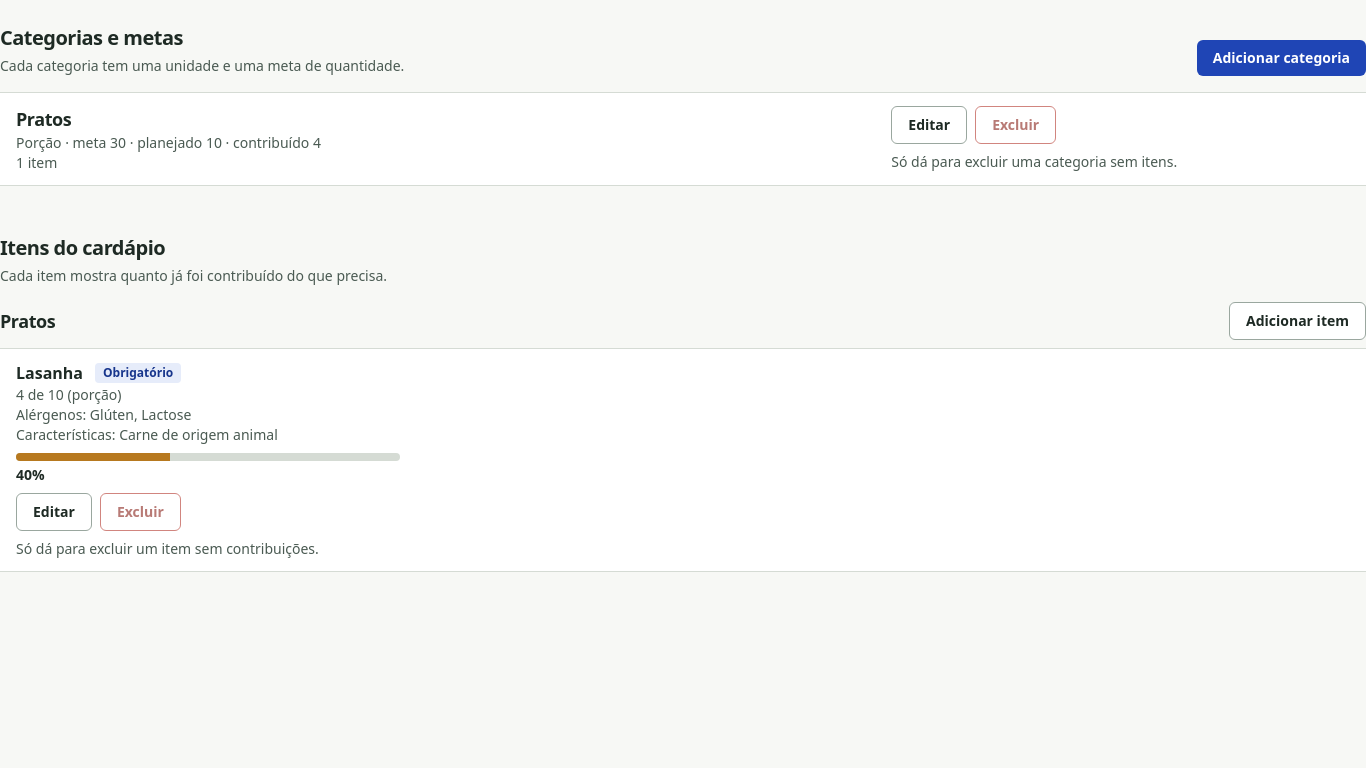
Test: MenuTab: categories › locks the unit of a category that has items, and says why
This screenshot has width=1366, height=768.
Click the button with aria-label "Editar Pratos".
click(929, 125)  # box [891, 106, 967, 144]
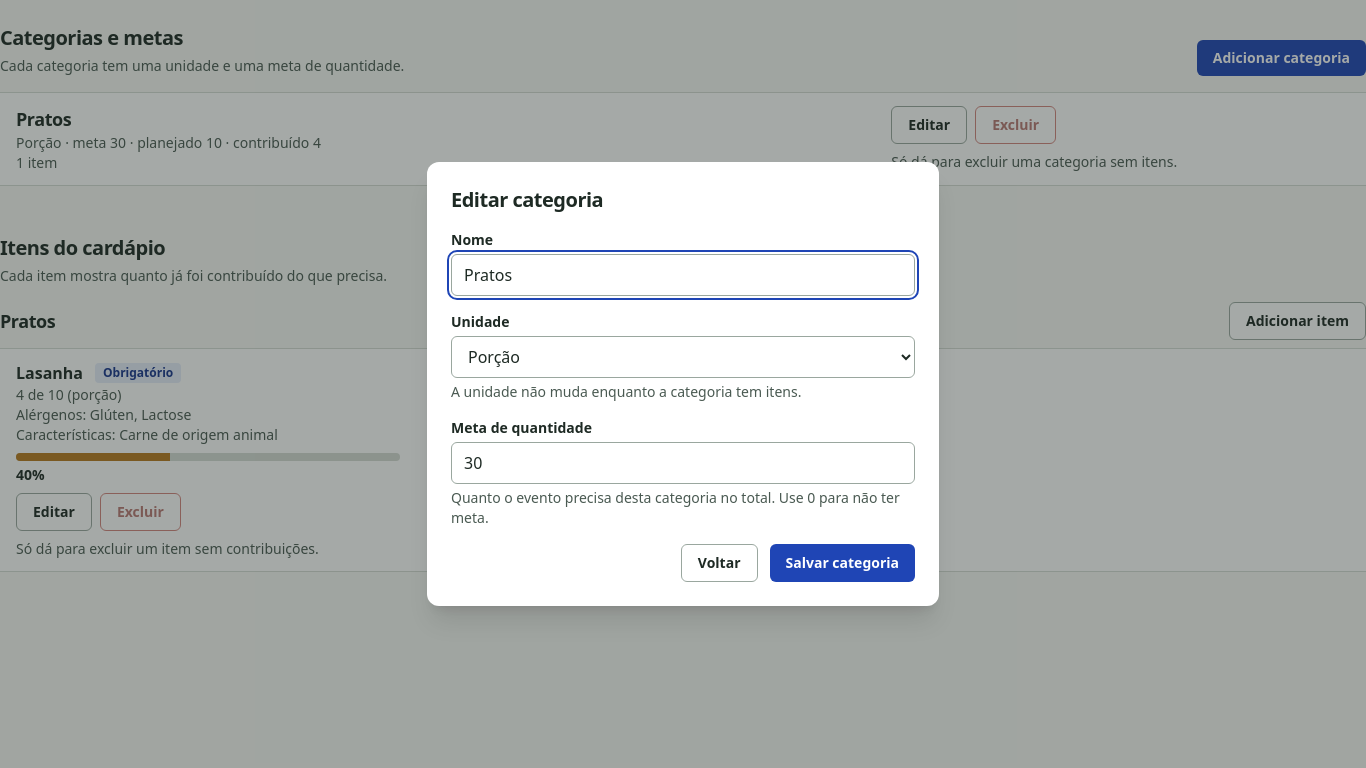
expect the dropdown labelled "Unidade" is disabled: met, box [451, 336, 915, 378]
expect the text "A unidade não muda enquanto a categoria tem itens." is shown: met, box [451, 382, 801, 401]
